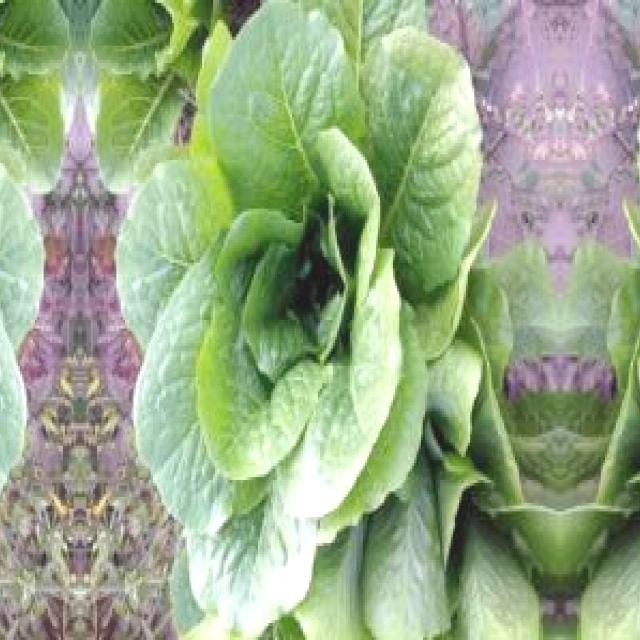healthy: (121, 4, 546, 640), (573, 4, 640, 640), (0, 4, 38, 640)
